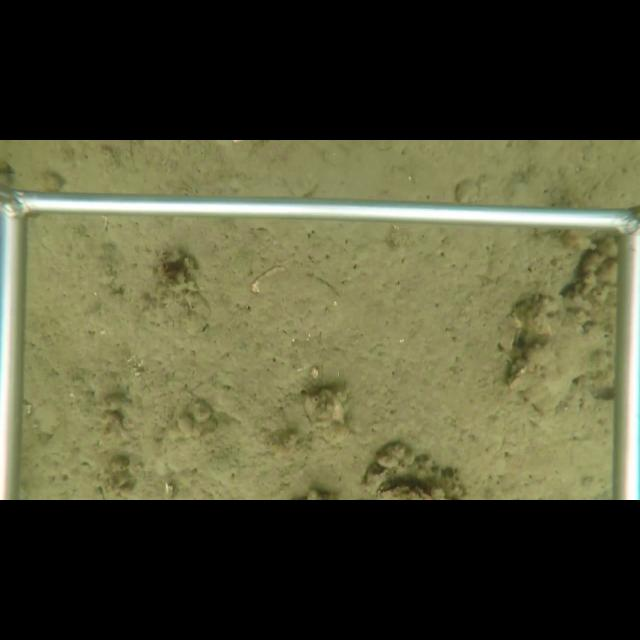Oyster-Open: (377, 481, 410, 497)
